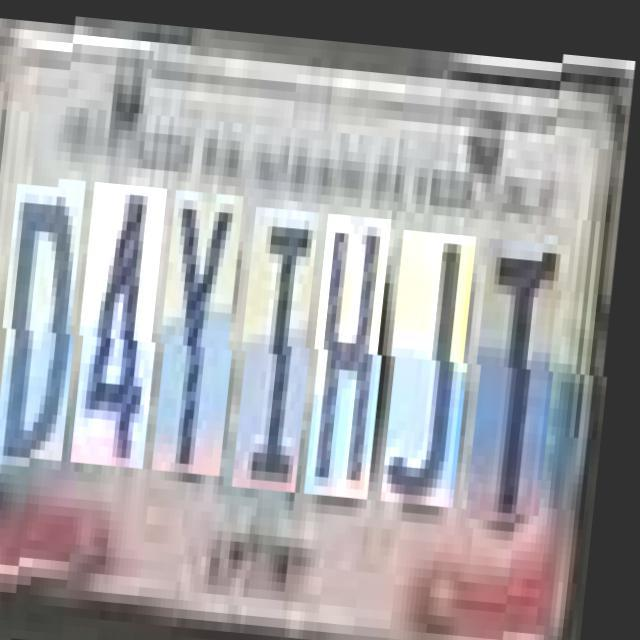4: (80, 180, 175, 465)
D: (4, 174, 94, 459)
H: (314, 207, 400, 491)
I: (242, 202, 328, 486)
J: (390, 222, 484, 498)
T: (476, 228, 570, 513)
Y: (162, 186, 252, 471)
